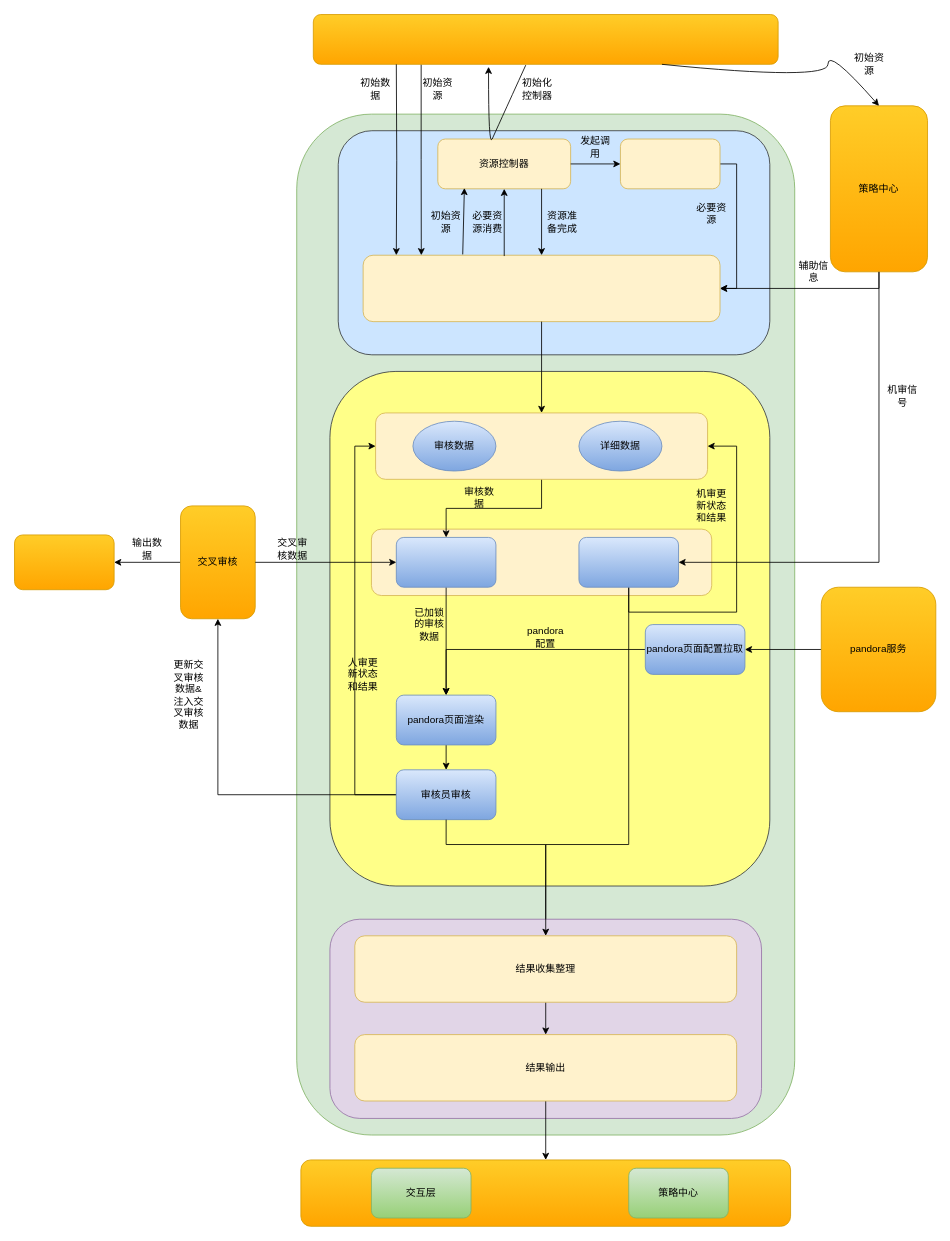
This 950x1241 diagram has some shape labels left out. The box of each missing label's shape, as (x1, y1, x2, y2) in pixels:
业务交互: (312, 14, 778, 64)
人工审核拉取数据: (395, 537, 496, 587)
报表服务: (14, 534, 114, 590)
机器审核: (578, 537, 679, 587)
衍生必要资源准备: (620, 138, 720, 189)
资源合并: (362, 254, 720, 322)
